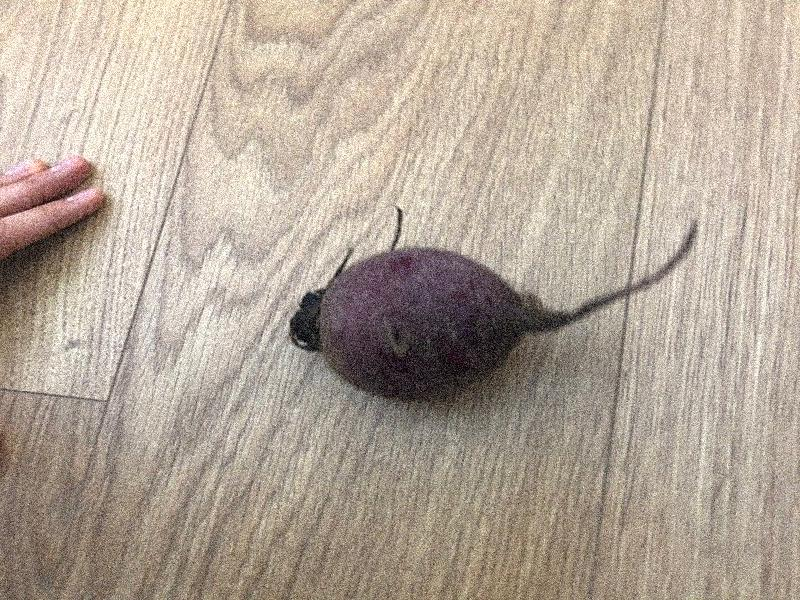Beet: (291, 208, 699, 397)
